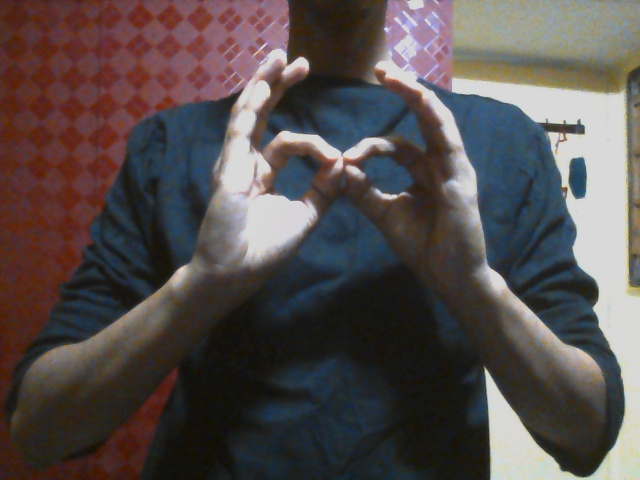B: (195, 47, 488, 302)
